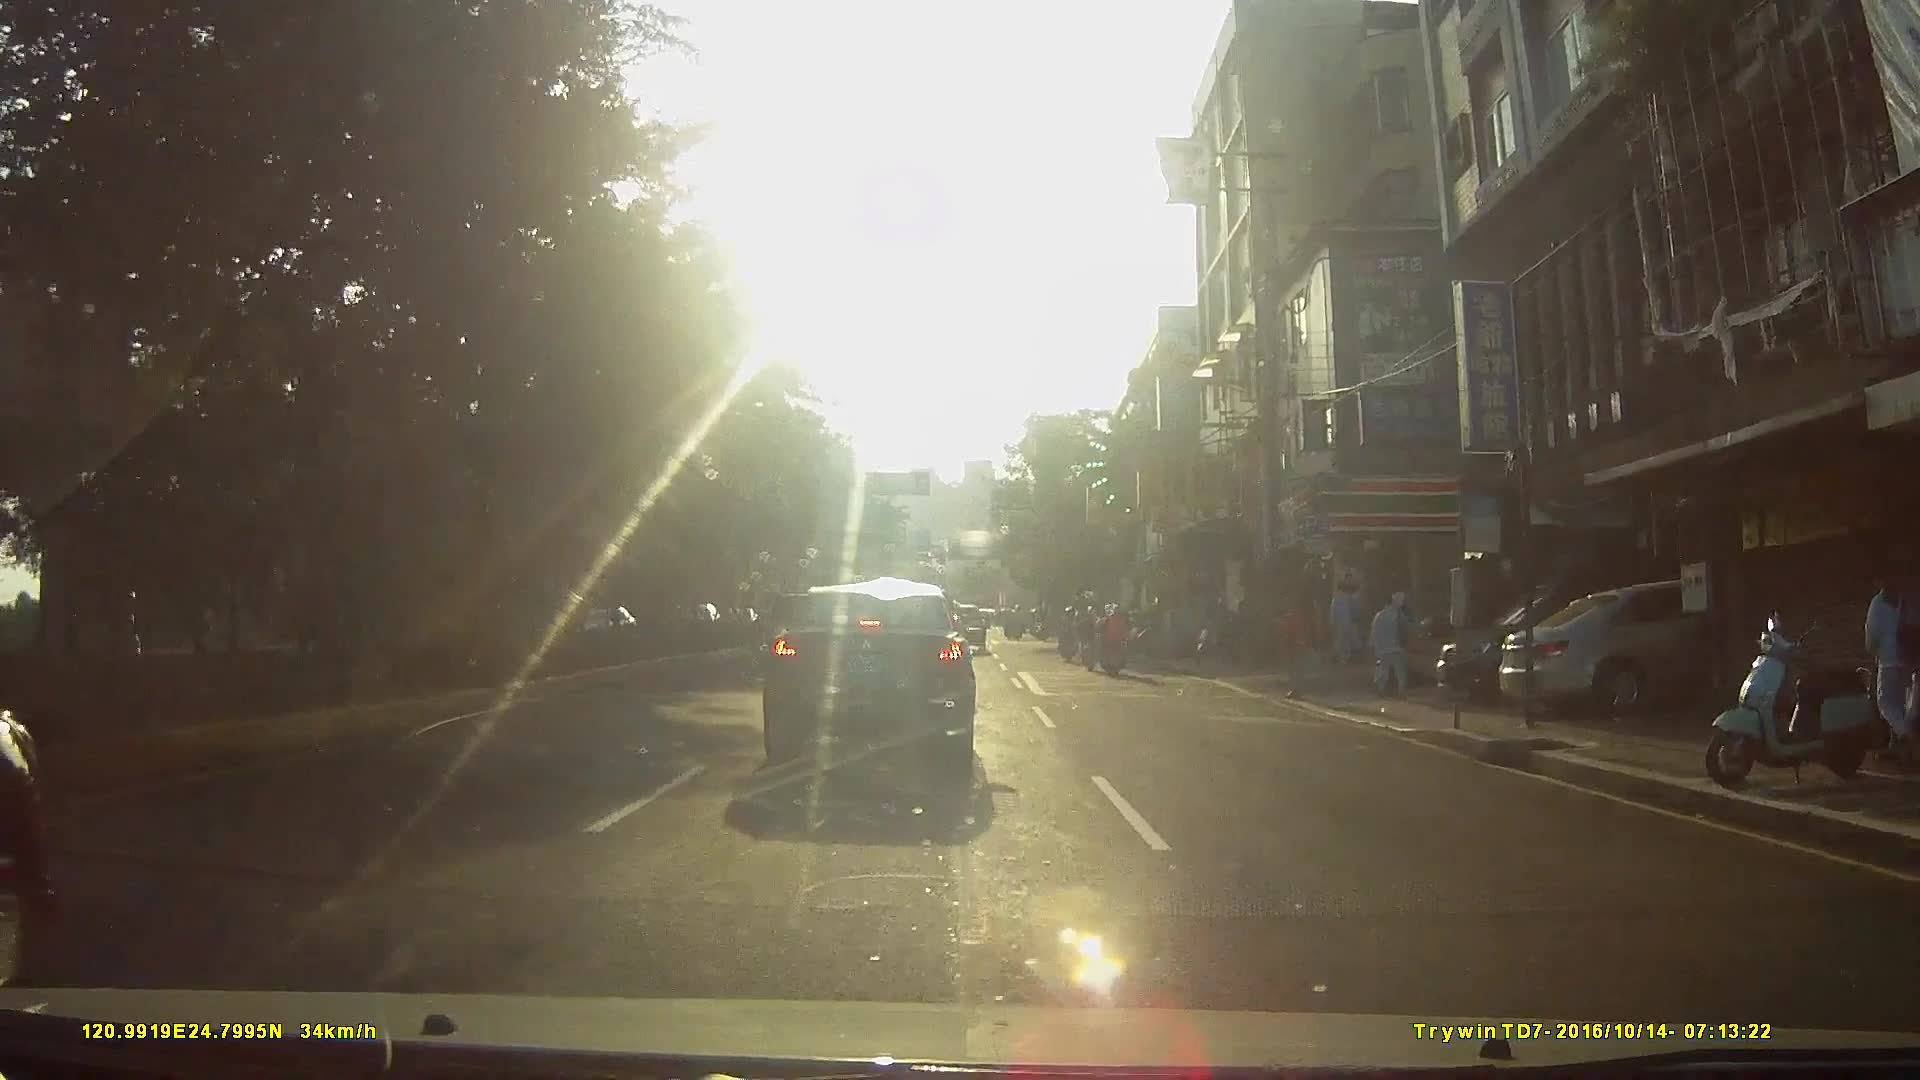pedestrian: (1868, 563, 1920, 760), (1365, 586, 1411, 700), (1281, 585, 1312, 698)
rider: (1094, 597, 1132, 677), (1075, 604, 1101, 674), (1057, 608, 1080, 668)
vehicle: (1427, 561, 1811, 710), (1489, 577, 1865, 722), (745, 574, 996, 776)
